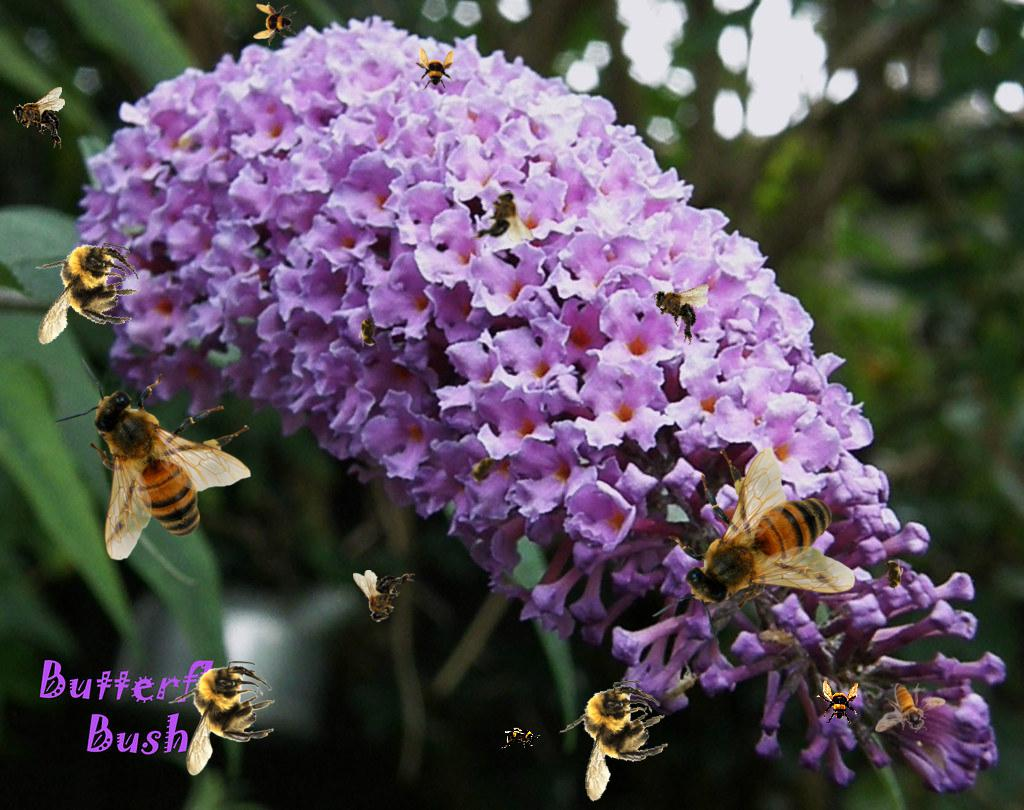Bee: (52, 357, 251, 561), (652, 447, 856, 646), (17, 226, 150, 365), (553, 676, 676, 805), (168, 661, 275, 776), (643, 271, 712, 347), (875, 683, 946, 733), (471, 190, 533, 243), (353, 570, 415, 623), (12, 87, 65, 149), (461, 447, 507, 491), (253, 2, 297, 46), (412, 47, 456, 91), (816, 680, 860, 724), (501, 727, 541, 749), (882, 555, 904, 595), (358, 311, 380, 351)
